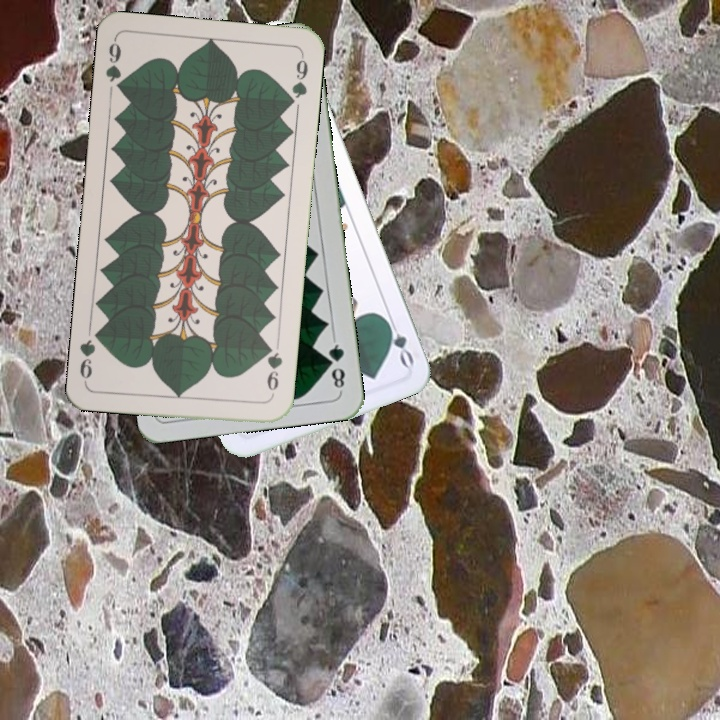G8: (323, 335, 348, 394)
G9: (101, 36, 127, 96), (262, 340, 285, 400)
GO: (379, 312, 417, 370)
